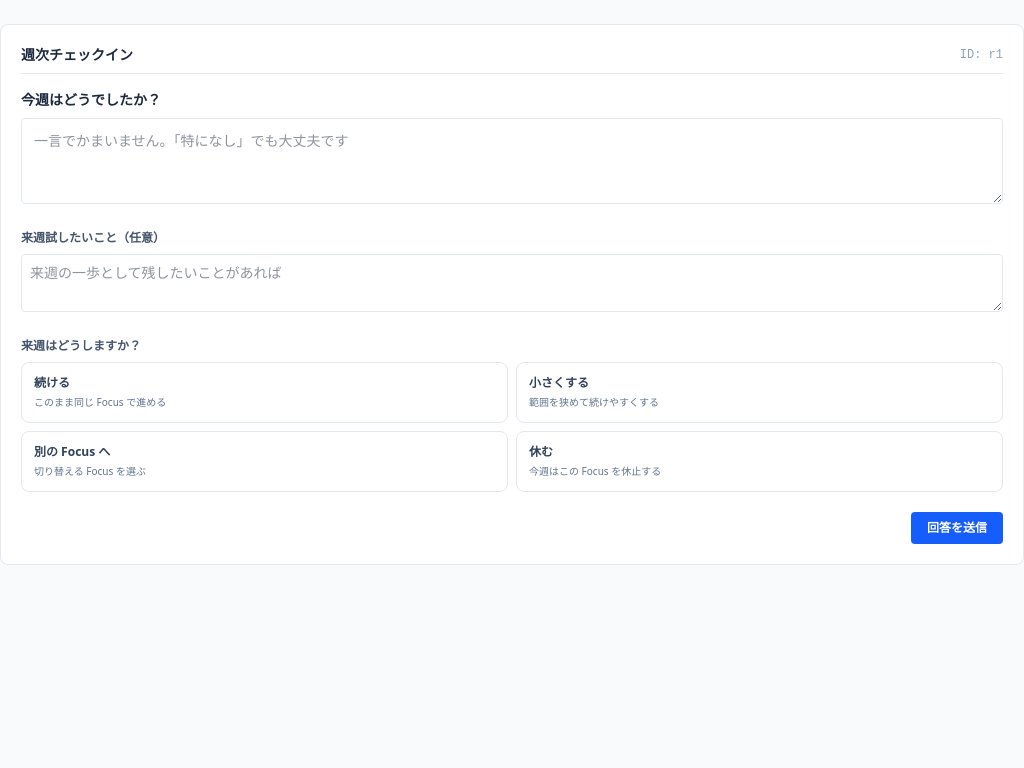
Test: WeeklyCheckinCard › requires a decision after the note is filled
Step 1. Type "声をかけられた" into the text box named "今週の振り返り" → (512, 161), box [21,118,1003,204]
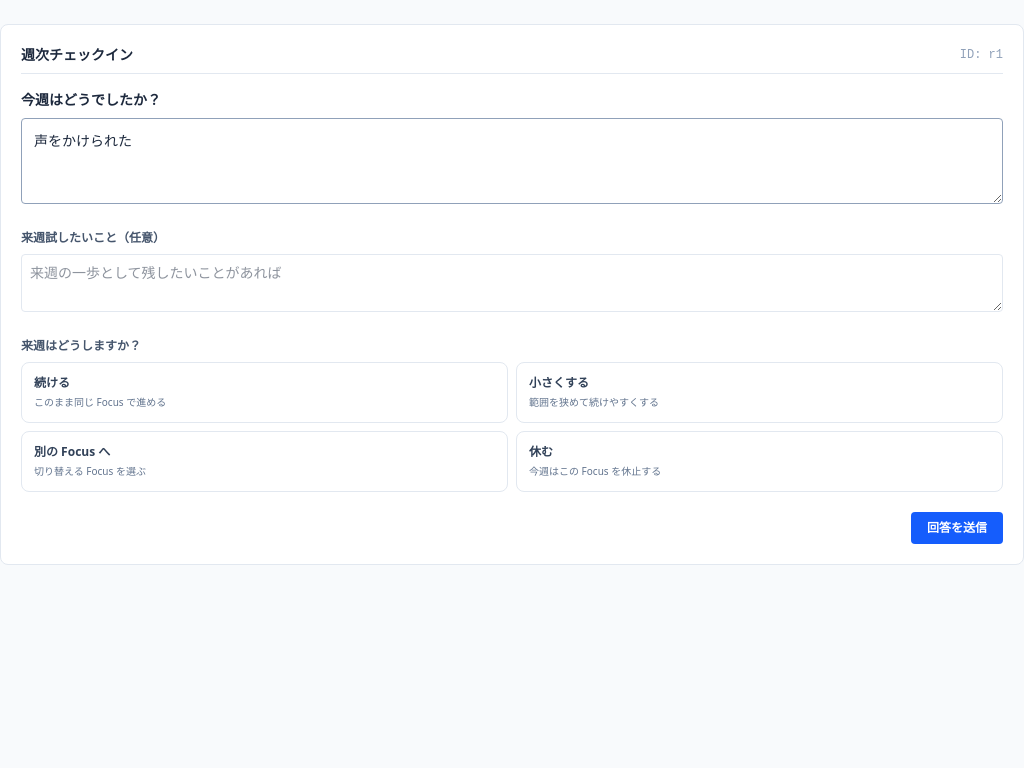
Step 2. Click the button "回答を送信" → click(957, 528), box [911,512,1003,544]
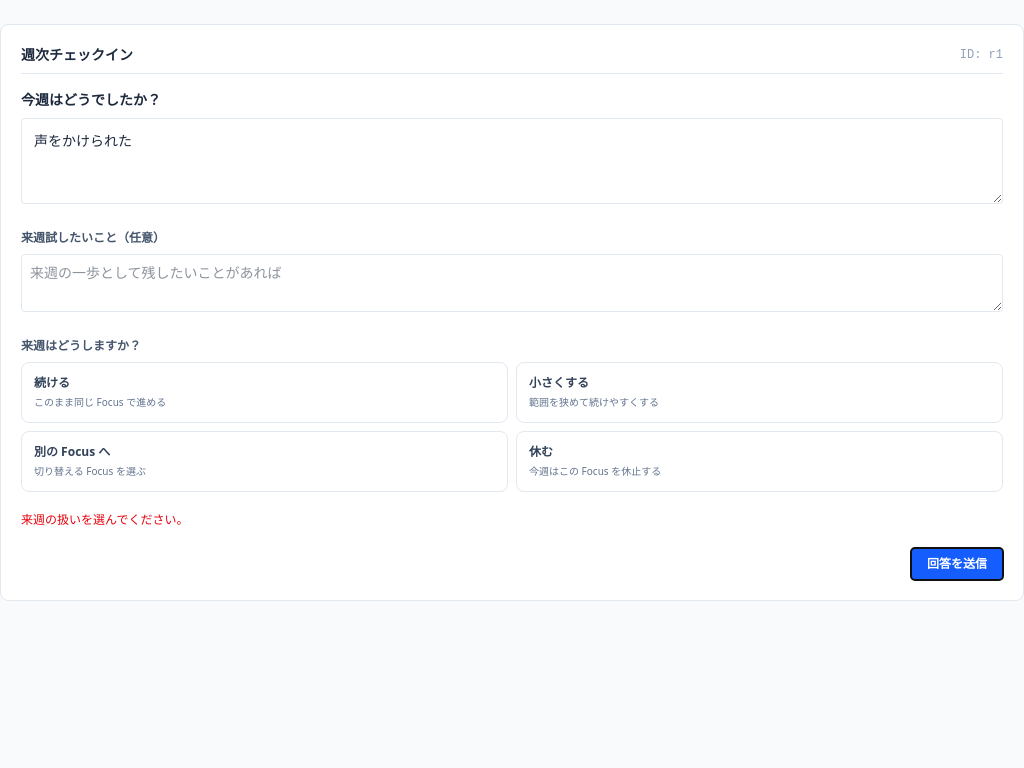
Check: the text "来週の扱いを選んでください。" is shown, box [21,511,188,528]
